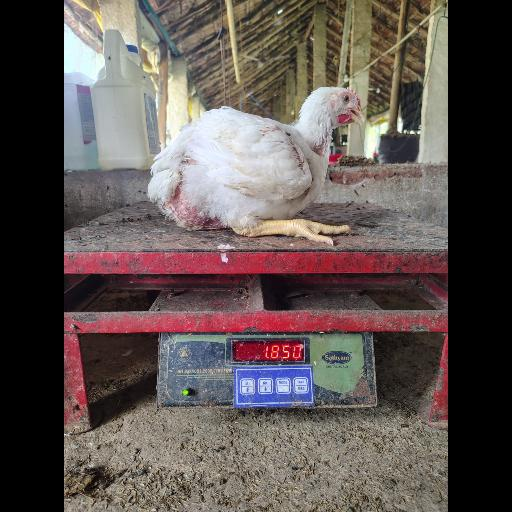chick: (148, 86, 366, 244)
